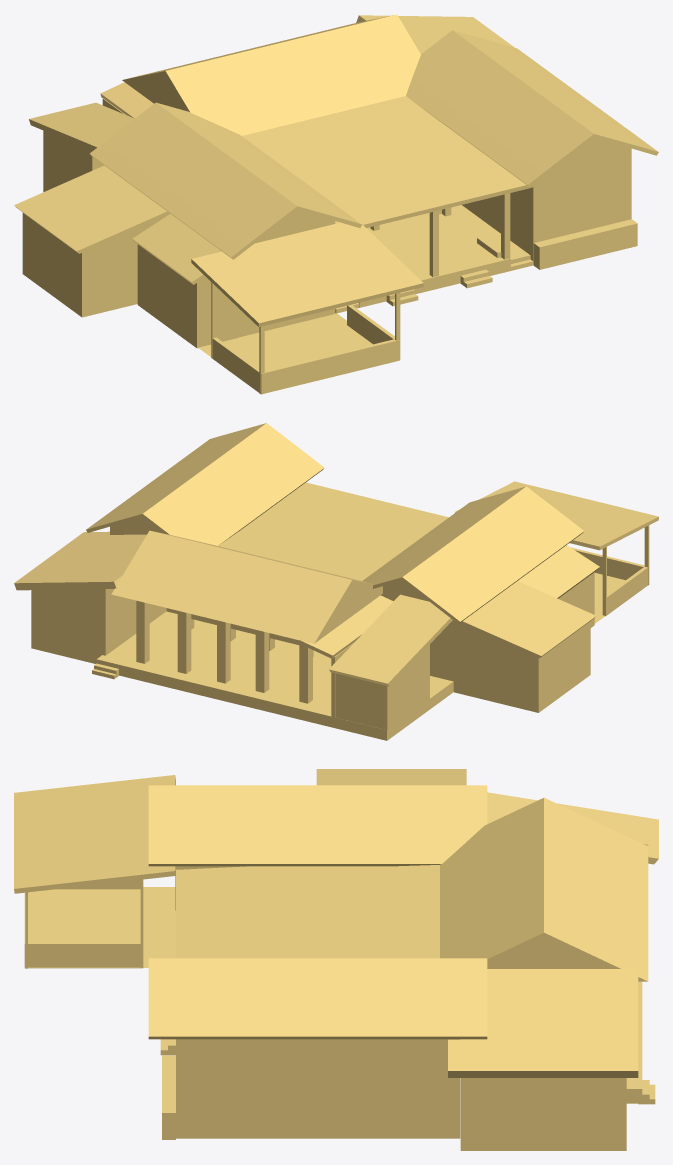
File: CANTEENNav.glb
3 renders of one model, top to bottom at view 1: azimuth 30°, elevation 25°; view 2: azimuth 150°, elevation 25°; view 3: azimuth 270°, elevation 25°, orthographic. The views are drawn at different scales.
Parts seen in each view (by area): view 1: Cube.042; view 2: Cube.042; view 3: Cube.042.
Boxes of the visible parts, <box> form: Cube.042: <box>14,14,658,394</box>; Cube.042: <box>14,423,658,740</box>; Cube.042: <box>14,769,658,1150</box>.
Size of the model in its own units: 27.04 by 6.56 by 23.82.
